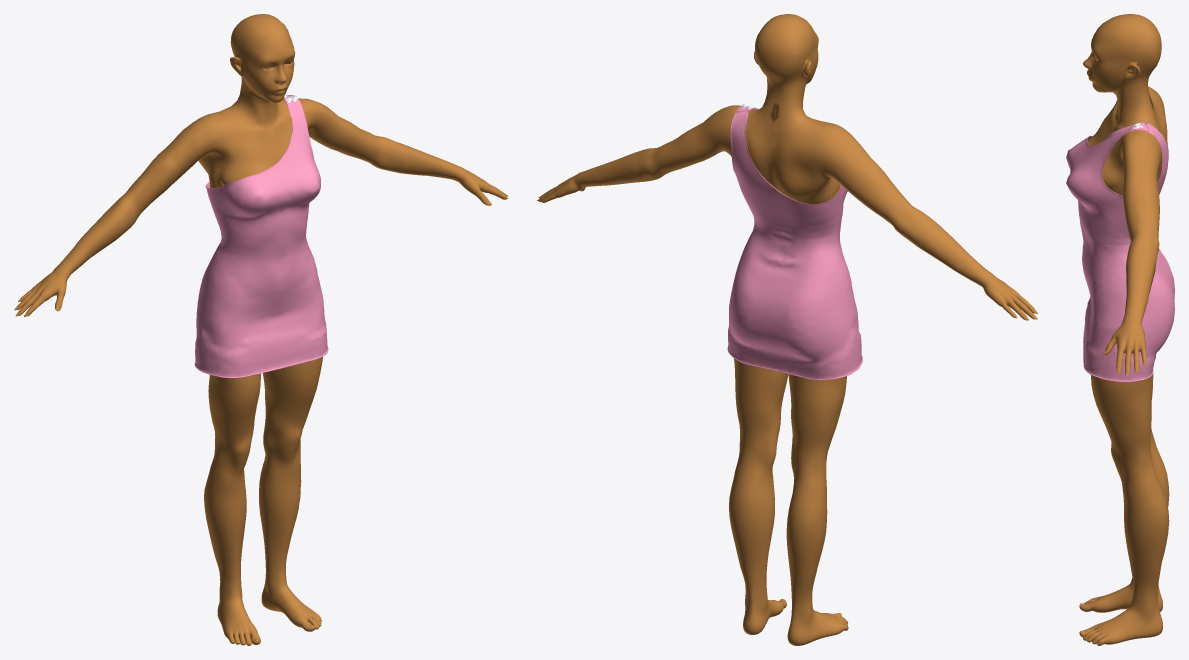
File: dress1.glb
3 renders of one model, left to right at view 1: azimuth 30°, elevation 25°; view 2: azimuth 150°, elevation 25°; view 3: azimuth 270°, elevation 25°, orthographic.
Visible parts, largest first — view 1: Body, WhiteDress; view 2: Body, WhiteDress; view 3: Body, WhiteDress.
Part boxes in pixels (left/top/right/bottom): Body: left=17, top=14, right=507, bottom=645; WhiteDress: left=194, top=95, right=328, bottom=378; Body: left=538, top=14, right=1035, bottom=645; WhiteDress: left=727, top=104, right=862, bottom=380; Body: left=1079, top=14, right=1169, bottom=645; WhiteDress: left=1066, top=122, right=1174, bottom=381.
Bounding box in the file's own units: 1.58 × 1.85 × 0.3.
